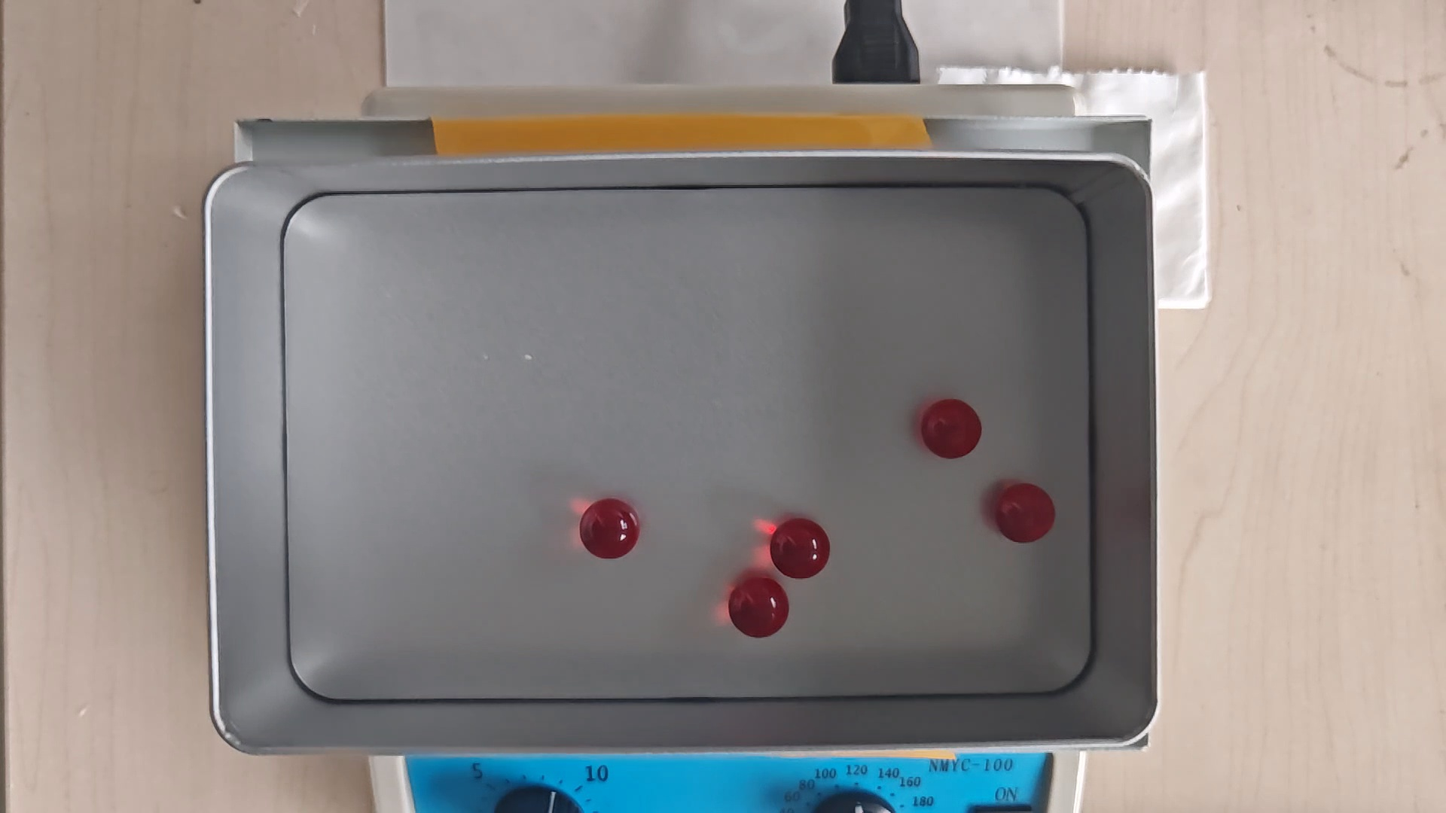ball: (728, 572, 791, 638), (582, 498, 641, 562), (769, 517, 831, 577), (923, 398, 982, 460), (998, 482, 1055, 545)
container: (283, 187, 1091, 702)
